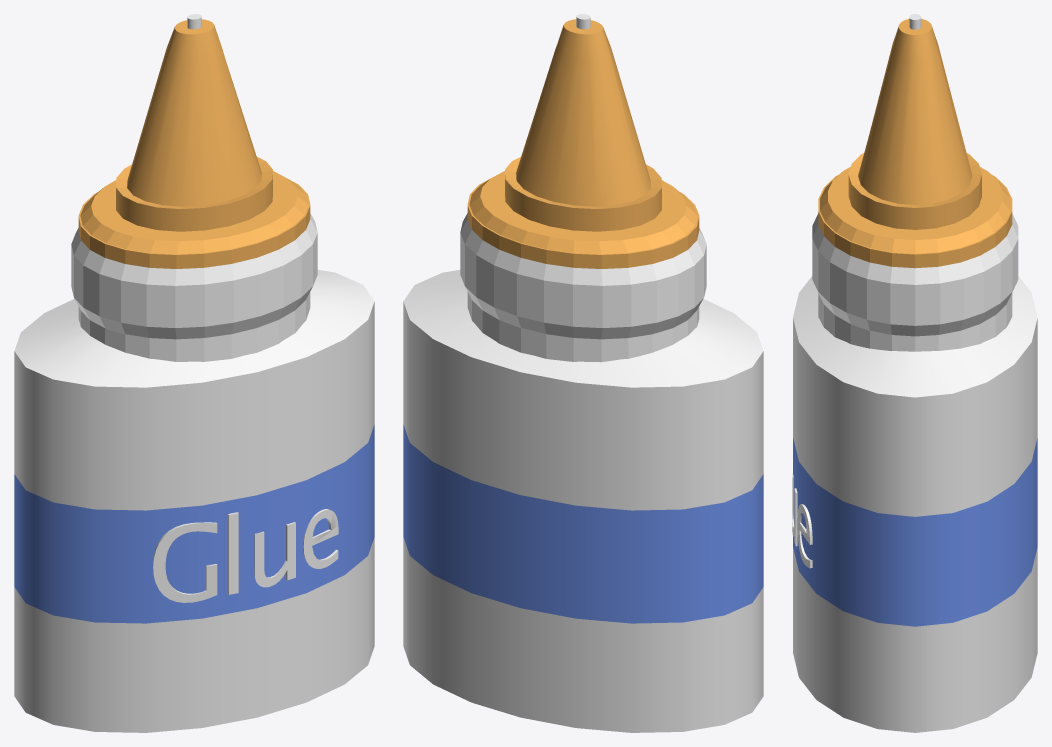
File: glue_bottle.fbx
3 renders of one model, left to right at view 1: azimuth 30°, elevation 25°; view 2: azimuth 150°, elevation 25°; view 3: azimuth 270°, elevation 25°, orthographic. The views are drawn at different scales.
Visible parts, largest first — view 1: pCylinder4, glue_bottle, pCylinder2, text; view 2: pCylinder4, glue_bottle, pCylinder2; view 3: pCylinder4, glue_bottle, pCylinder2, text.
Part boxes in pixels (bbox=[...]): pCylinder4: bbox=[14, 270, 374, 732]; glue_bottle: bbox=[71, 171, 317, 361]; pCylinder2: bbox=[116, 19, 272, 231]; text: bbox=[153, 509, 338, 602]; pCylinder4: bbox=[403, 270, 763, 732]; glue_bottle: bbox=[460, 171, 706, 362]; pCylinder2: bbox=[505, 19, 661, 231]; pCylinder4: bbox=[793, 276, 1037, 732]; glue_bottle: bbox=[812, 167, 1018, 351]; pCylinder2: bbox=[848, 19, 981, 229]; text: bbox=[792, 472, 812, 568].
Size of the model in its own units: 5.51 by 10.21 by 3.57.
